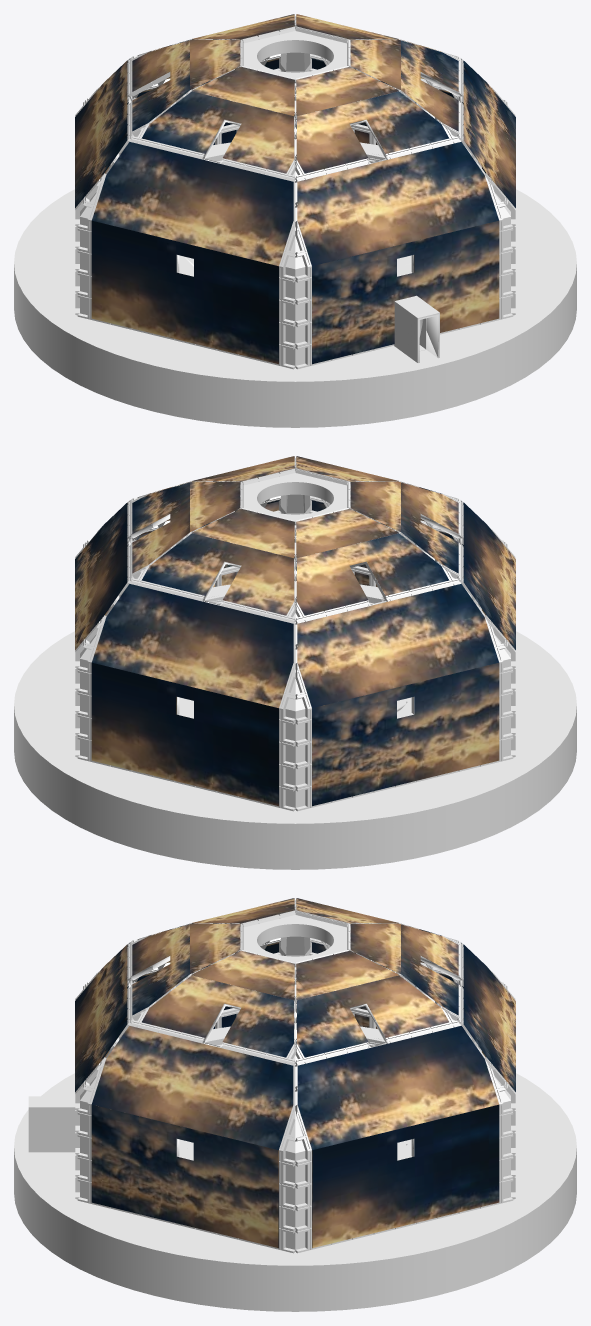
Rendered from classroom0126.glb.
The picture shows the model from 3 angles, top to bottom: view 1: azimuth 30°, elevation 25°; view 2: azimuth 150°, elevation 25°; view 3: azimuth 270°, elevation 25°; orthographic projection.
Parts seen in each view (by area): view 1: Solid_Addition_2, Solid_Addition_line, Solid_Subtraction, Solid_Addition, Solid_Addition_line_2; view 2: Solid_Addition_2, Solid_Addition_line, Solid_Subtraction, Solid_Addition, Solid_Addition_line_2; view 3: Solid_Addition_2, Solid_Addition_line, Solid_Subtraction, Solid_Addition, Solid_Addition_line_2.
Part boxes in pixels (x1,y1,x2,y2): Solid_Addition_2: (75, 14, 515, 364); Solid_Addition_line: (14, 189, 576, 427); Solid_Subtraction: (75, 14, 515, 369); Solid_Addition: (80, 20, 510, 367); Solid_Addition_line_2: (179, 142, 411, 276); Solid_Addition_2: (75, 456, 515, 806); Solid_Addition_line: (14, 631, 576, 869); Solid_Subtraction: (75, 456, 515, 811); Solid_Addition: (80, 462, 510, 809); Solid_Addition_line_2: (179, 584, 411, 718); Solid_Addition_2: (75, 898, 515, 1248); Solid_Addition_line: (14, 1073, 576, 1311); Solid_Subtraction: (28, 898, 515, 1253); Solid_Addition: (80, 903, 510, 1251); Solid_Addition_line_2: (179, 1026, 411, 1160).
Size of the model in its own units: 55.73 by 27.98 by 55.73.
Materials: 7 (2 with a texture image).
